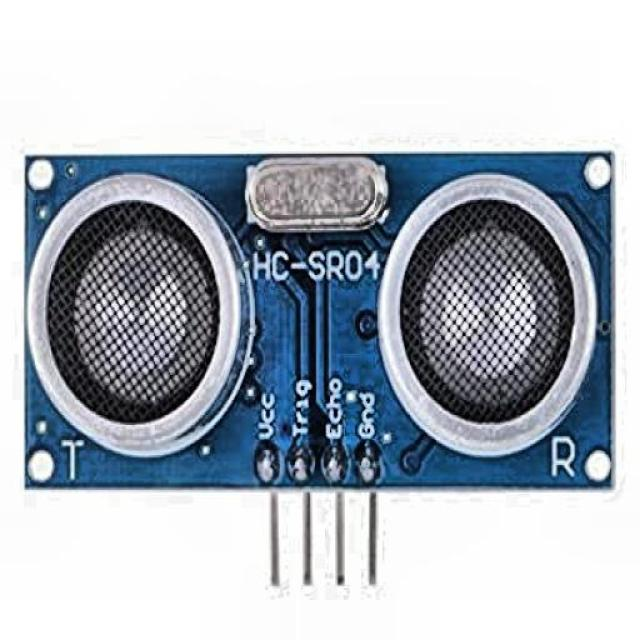Ultrasonic Sensor: (14, 145, 627, 569)
